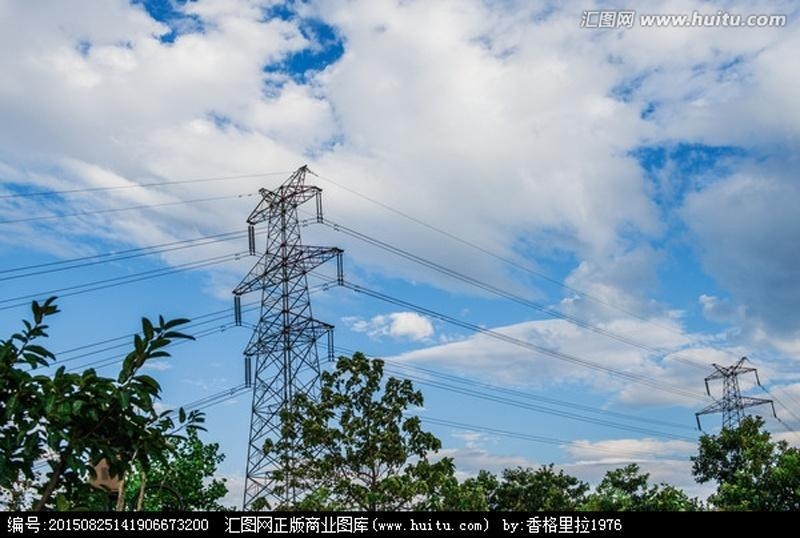power_tower: (222, 163, 350, 510), (695, 353, 781, 444)
